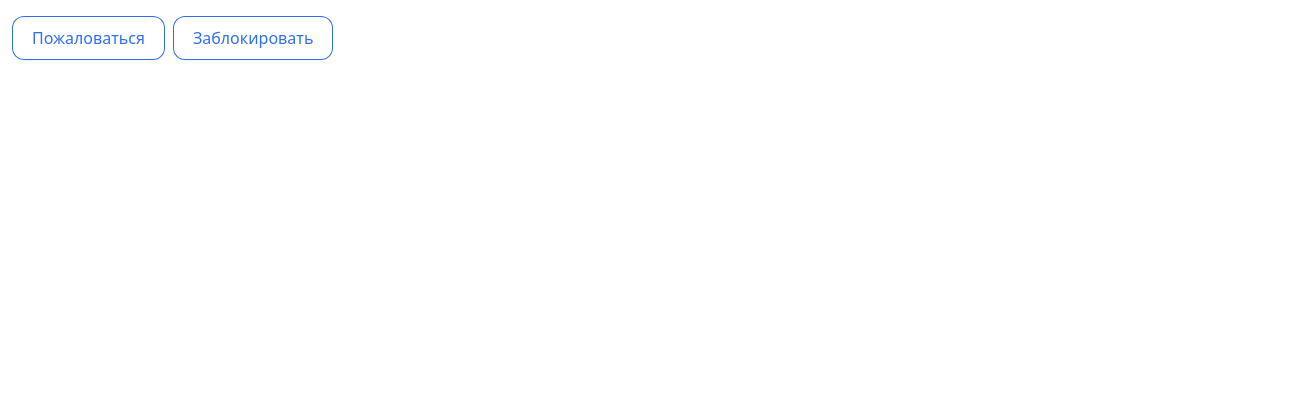
Test: <Safety> › reports with a reason and a note, once
Click the button "Пожаловаться". click: {"x": 88, "y": 38}
box: [12, 16, 165, 60]
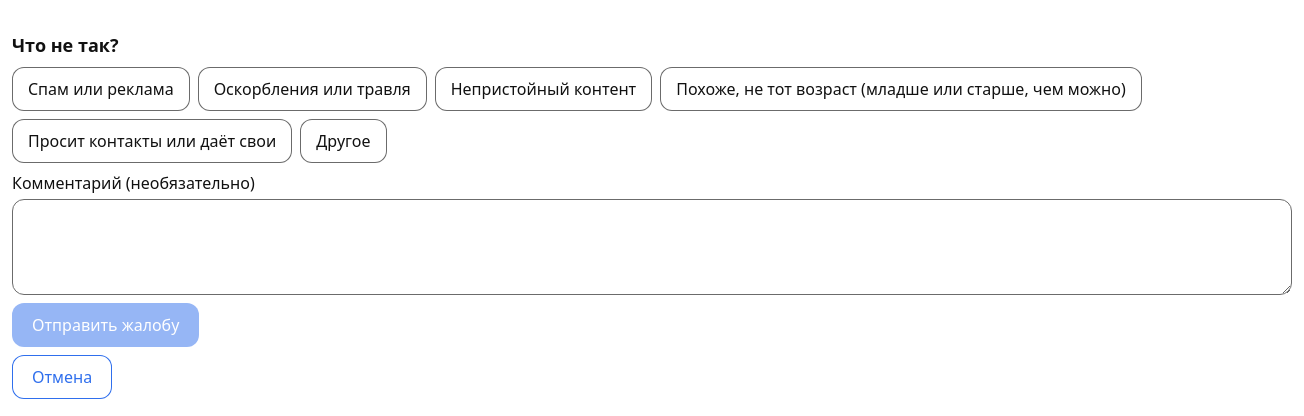
Expected: the heading "Что не так?" is shown, [12, 33, 118, 57]
Expected: the button "Отправить жалобу" is disabled, [12, 303, 199, 347]
Click the button "Просит контакты или даёт свои". click: {"x": 152, "y": 141}
box: [12, 119, 292, 163]
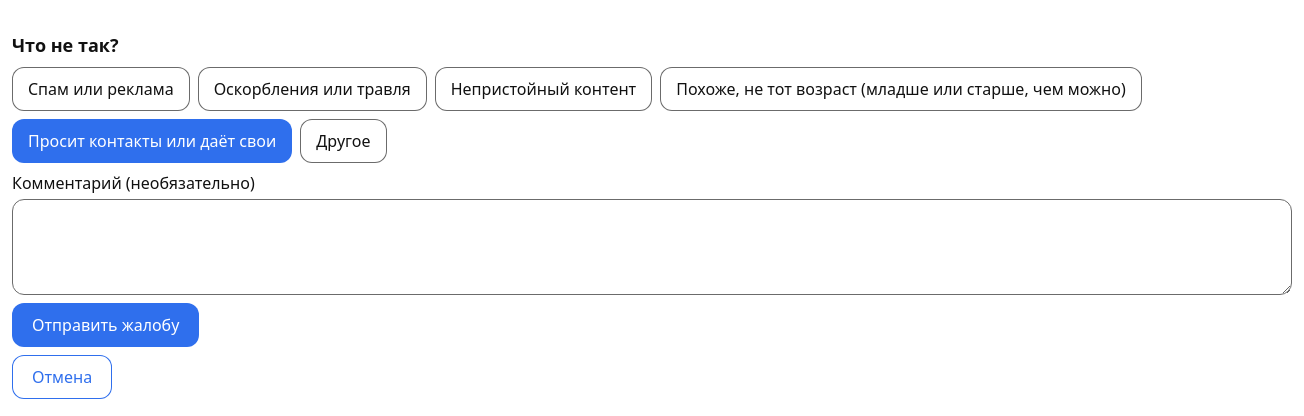
Type "просит номер" into the text box labelled "Комментарий (необязательно)". click: {"x": 652, "y": 247}
box: [12, 199, 1292, 295]
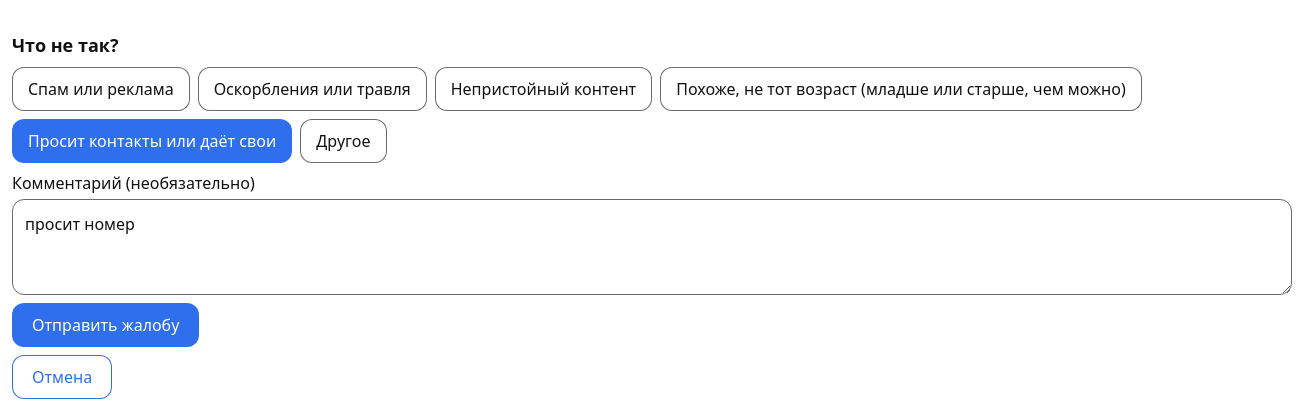
Click the button "Отправить жалобу". click: {"x": 106, "y": 325}
box: [12, 303, 199, 347]
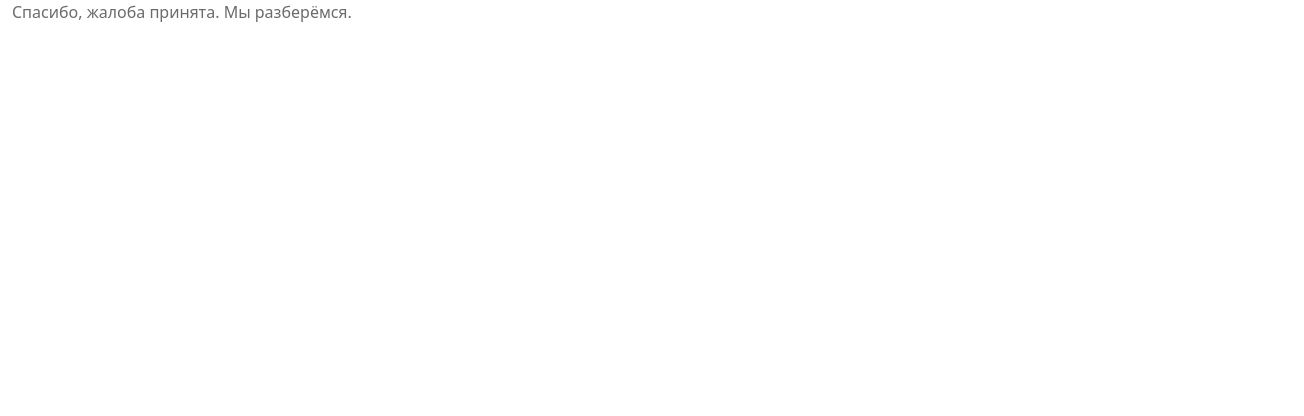
Expected: the button "Пожаловаться" is not shown
Expected: the text "Спасибо, жалоба принята. Мы разберёмся." is shown, [12, 1, 352, 23]
